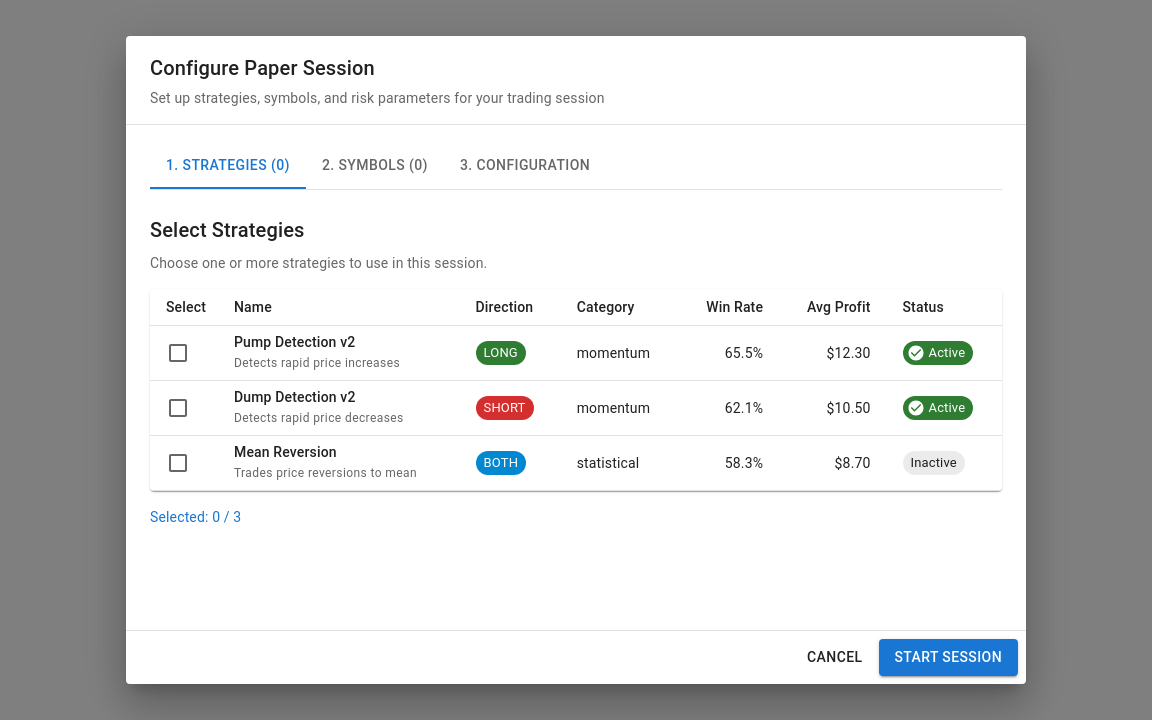
it: SessionConfigDialog › Strategy Selection › allows selecting a single strategy by clicking checkbox
The image size is (1152, 720).
Check: the text "Pump Detection v2" is shown, box [234, 334, 355, 350]
Click checkbox for first strategy
Click the checkbox next to "Pump Detection v2".
click(178, 353)  # box [166, 341, 190, 365]
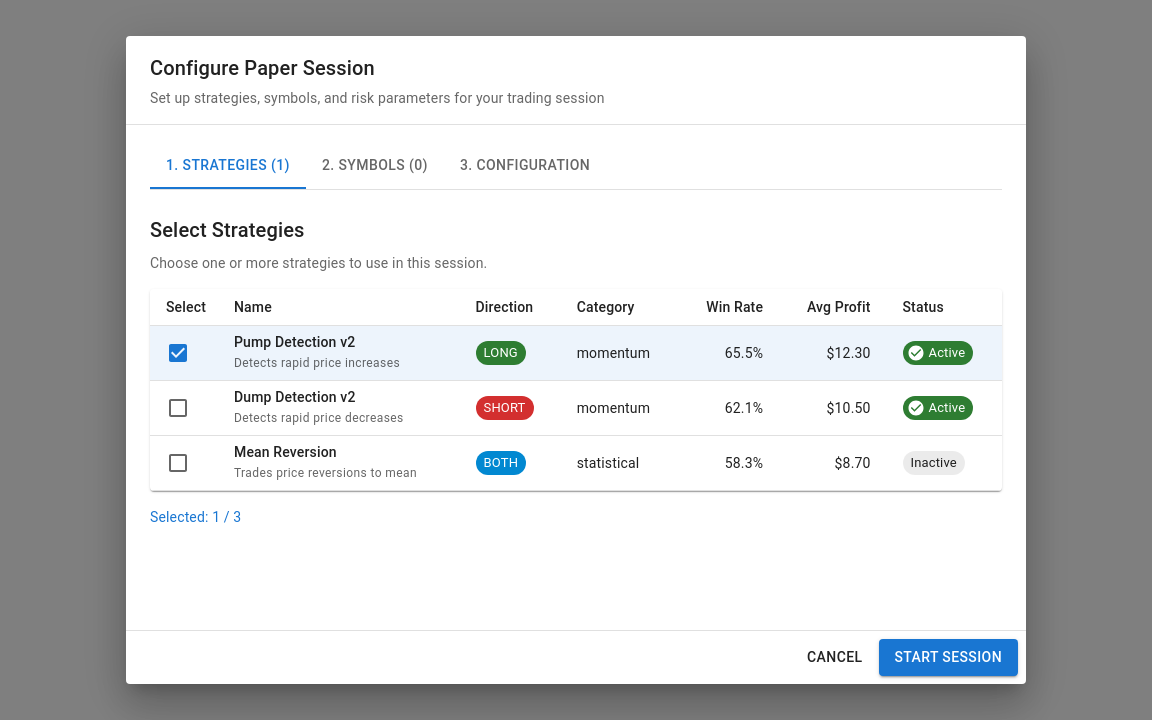
Check: the tab "1. Strategies (1)" is shown, box [150, 141, 306, 189]
